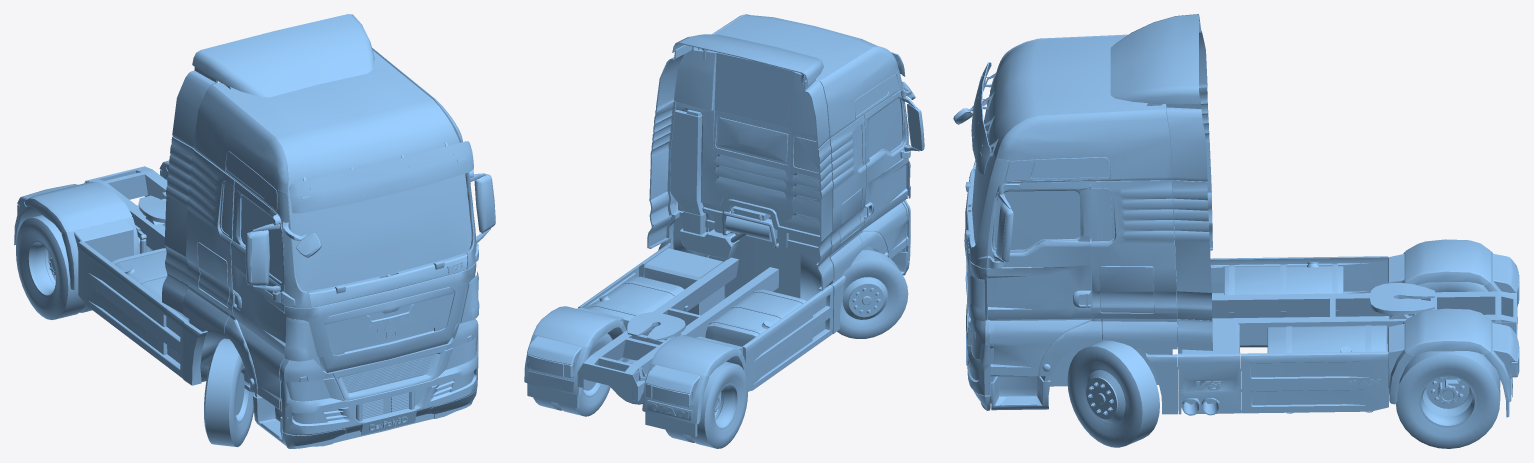
The model's file is truck_edit_v1.glb.
3 renders of one model, left to right at view 1: azimuth 30°, elevation 25°; view 2: azimuth 150°, elevation 25°; view 3: azimuth 270°, elevation 25°, orthographic. The views are drawn at different scales.
Visible parts, largest first — view 1: d75ac7d3-ea99-4386-8004-2b8b4d77a8ed.001, d75ac7d3-ea99-4386-8004-2b8b4d77a8ed.003, d75ac7d3-ea99-4386-8004-2b8b4d77a8ed.015, d75ac7d3-ea99-4386-8004-2b8b4d77a8ed.011, d75ac7d3-ea99-4386-8004-2b8b4d77a8ed.004, d75ac7d3-ea99-4386-8004-2b8b4d77a8ed.010, d75ac7d3-ea99-4386-8004-2b8b4d77a8ed, d75ac7d3-ea99-4386-8004-2b8b4d77a8ed.009, Object_3_Tyre_sidewalls_0, Object_3.002_Tyre_tread_0, d75ac7d3-ea99-4386-8004-2b8b4d77a8ed.018, d75ac7d3-ea99-4386-8004-2b8b4d77a8ed.002 (+5 smaller); view 2: d75ac7d3-ea99-4386-8004-2b8b4d77a8ed.001, d75ac7d3-ea99-4386-8004-2b8b4d77a8ed.015, d75ac7d3-ea99-4386-8004-2b8b4d77a8ed.012, d75ac7d3-ea99-4386-8004-2b8b4d77a8ed, d75ac7d3-ea99-4386-8004-2b8b4d77a8ed.011, d75ac7d3-ea99-4386-8004-2b8b4d77a8ed.003, Object_3_Tyre_sidewalls_0, Object_3.002_Tyre_sidewalls_0, Object_3.002_Rims_0, d75ac7d3-ea99-4386-8004-2b8b4d77a8ed.018, Object_3_Tyre_tread_0, Object_3_Rims_0 (+2 smaller); view 3: d75ac7d3-ea99-4386-8004-2b8b4d77a8ed.001, d75ac7d3-ea99-4386-8004-2b8b4d77a8ed.015, d75ac7d3-ea99-4386-8004-2b8b4d77a8ed.011, d75ac7d3-ea99-4386-8004-2b8b4d77a8ed, d75ac7d3-ea99-4386-8004-2b8b4d77a8ed.003, Object_3_Tyre_sidewalls_0, Object_3.001_Tyre_sidewalls_0, Object_3.001_Tyre_tread_0, Object_3_Rims_0, d75ac7d3-ea99-4386-8004-2b8b4d77a8ed.004, Object_3.001_Rims_0, d75ac7d3-ea99-4386-8004-2b8b4d77a8ed.010 (+2 smaller).
Part boxes in pixels (box(x1,y1,x2,y2)): d75ac7d3-ea99-4386-8004-2b8b4d77a8ed.001: box(183, 47, 478, 448); d75ac7d3-ea99-4386-8004-2b8b4d77a8ed.003: box(221, 153, 471, 291); d75ac7d3-ea99-4386-8004-2b8b4d77a8ed.015: box(14, 165, 187, 378); d75ac7d3-ea99-4386-8004-2b8b4d77a8ed.011: box(162, 14, 374, 313); d75ac7d3-ea99-4386-8004-2b8b4d77a8ed.004: box(245, 169, 495, 421); d75ac7d3-ea99-4386-8004-2b8b4d77a8ed.010: box(289, 141, 473, 213); d75ac7d3-ea99-4386-8004-2b8b4d77a8ed: box(17, 160, 454, 437); d75ac7d3-ea99-4386-8004-2b8b4d77a8ed.009: box(325, 291, 454, 355); Object_3_Tyre_sidewalls_0: box(16, 217, 90, 319); Object_3.002_Tyre_tread_0: box(205, 338, 238, 446); d75ac7d3-ea99-4386-8004-2b8b4d77a8ed.018: box(287, 336, 477, 423); d75ac7d3-ea99-4386-8004-2b8b4d77a8ed.002: box(324, 260, 463, 338); d75ac7d3-ea99-4386-8004-2b8b4d77a8ed.001: box(666, 14, 910, 333); d75ac7d3-ea99-4386-8004-2b8b4d77a8ed.015: box(524, 245, 833, 436); d75ac7d3-ea99-4386-8004-2b8b4d77a8ed.012: box(670, 101, 830, 298); d75ac7d3-ea99-4386-8004-2b8b4d77a8ed: box(527, 202, 888, 420); d75ac7d3-ea99-4386-8004-2b8b4d77a8ed.011: box(647, 34, 833, 290); d75ac7d3-ea99-4386-8004-2b8b4d77a8ed.003: box(718, 82, 902, 168); Object_3_Tyre_sidewalls_0: box(551, 333, 748, 448); Object_3.002_Tyre_sidewalls_0: box(837, 258, 908, 338); Object_3.002_Rims_0: box(841, 275, 889, 321); d75ac7d3-ea99-4386-8004-2b8b4d77a8ed.018: box(528, 356, 688, 406); Object_3_Tyre_tread_0: box(533, 361, 734, 448); Object_3_Rims_0: box(582, 350, 738, 430); d75ac7d3-ea99-4386-8004-2b8b4d77a8ed.001: box(965, 34, 1178, 414); d75ac7d3-ea99-4386-8004-2b8b4d77a8ed.015: box(1177, 239, 1517, 417); d75ac7d3-ea99-4386-8004-2b8b4d77a8ed.011: box(1110, 14, 1212, 350); d75ac7d3-ea99-4386-8004-2b8b4d77a8ed: box(966, 253, 1519, 415); d75ac7d3-ea99-4386-8004-2b8b4d77a8ed.003: box(972, 108, 1113, 249); Object_3_Tyre_sidewalls_0: box(1395, 281, 1500, 448); Object_3.001_Tyre_sidewalls_0: box(1067, 346, 1142, 447); Object_3.001_Tyre_tread_0: box(1085, 340, 1159, 445); Object_3_Rims_0: box(1418, 374, 1477, 428); d75ac7d3-ea99-4386-8004-2b8b4d77a8ed.004: box(969, 184, 1020, 321); Object_3.001_Rims_0: box(1084, 368, 1126, 425); d75ac7d3-ea99-4386-8004-2b8b4d77a8ed.010: box(971, 62, 991, 174).
Size of the model in its own units: 20.74 by 26.15 by 38.37.
